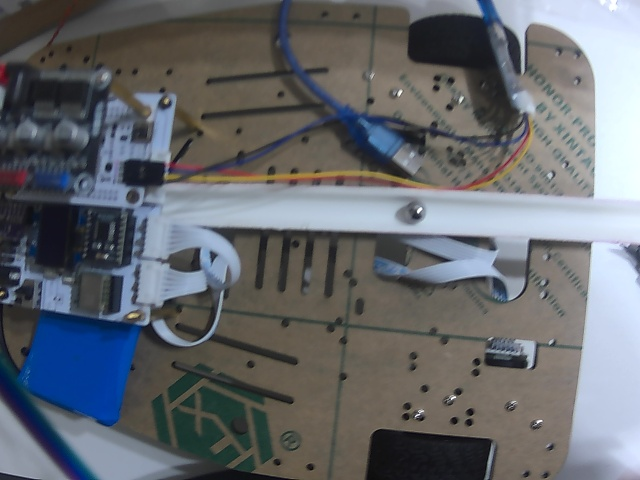steelball: (404, 202, 426, 222)
